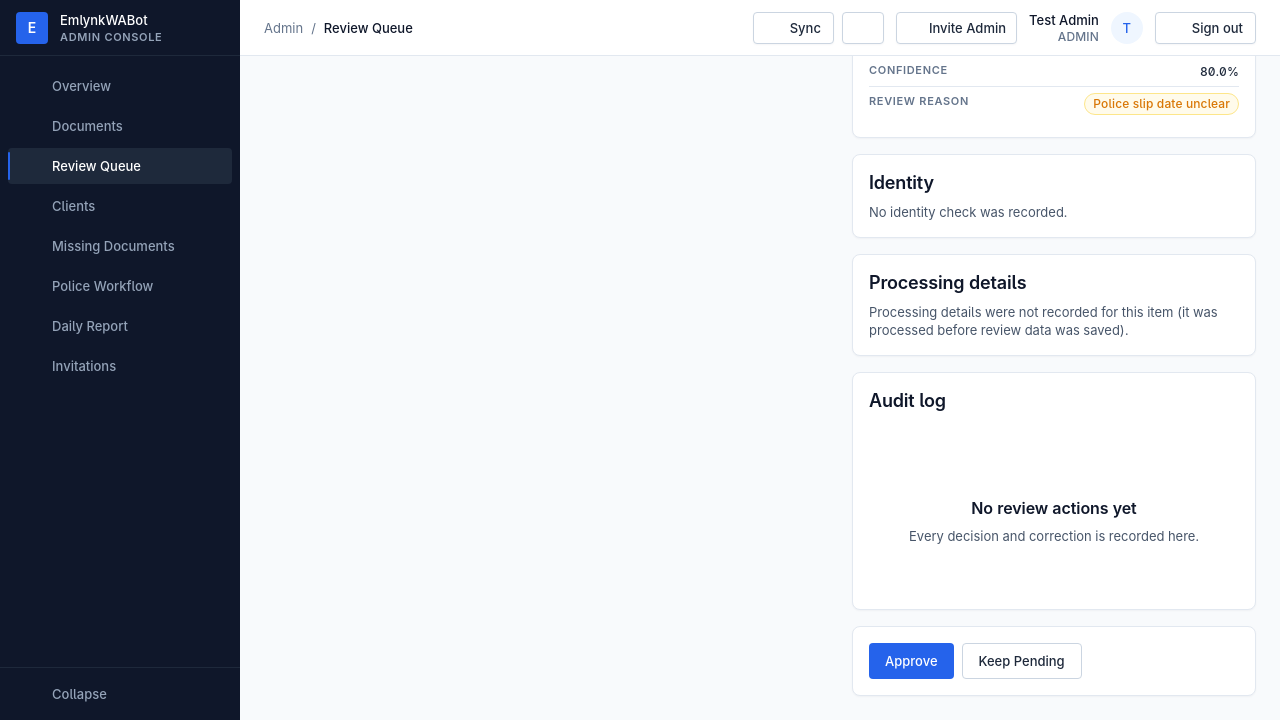
approving a police slip › a server refusal about the date is shown
(page scrolled)
Click the button "Approve".
click(911, 661)  # box [869, 643, 954, 679]
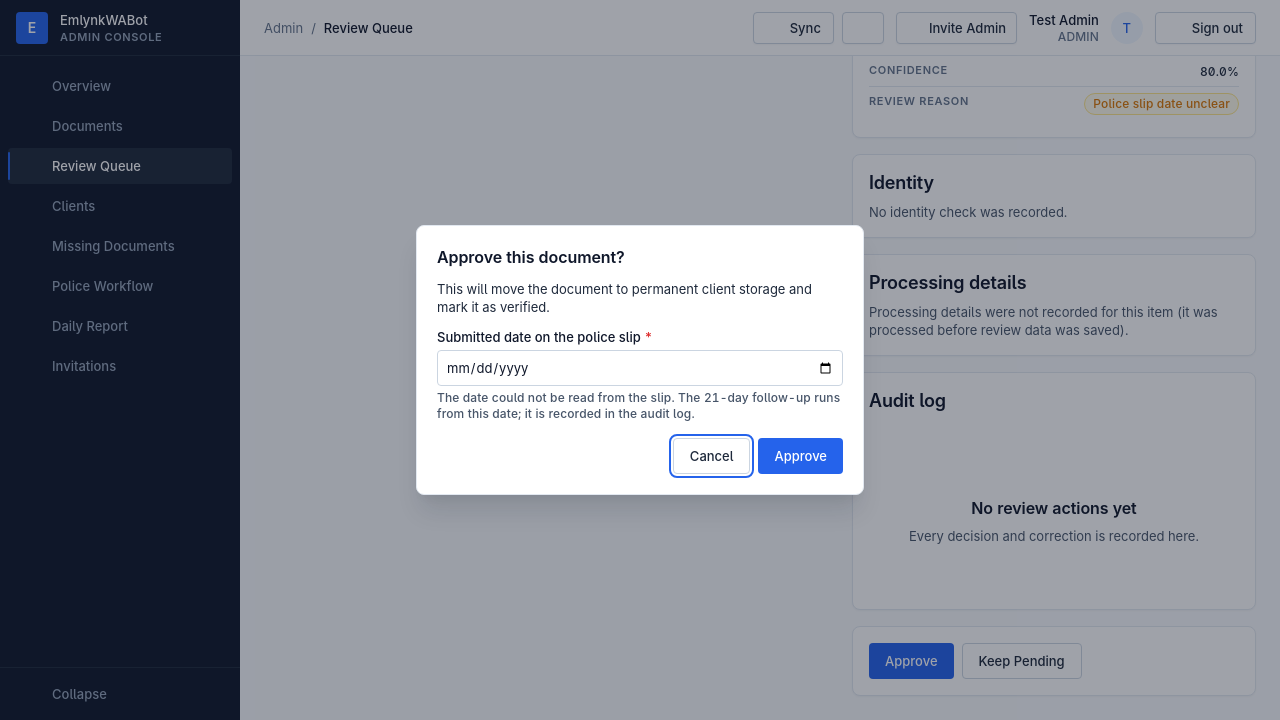
Type "2026-09-10" into the date field labelled "Submitted date on the police slip *".
click(640, 368); type("2026-09-10")  # box [437, 350, 843, 386]
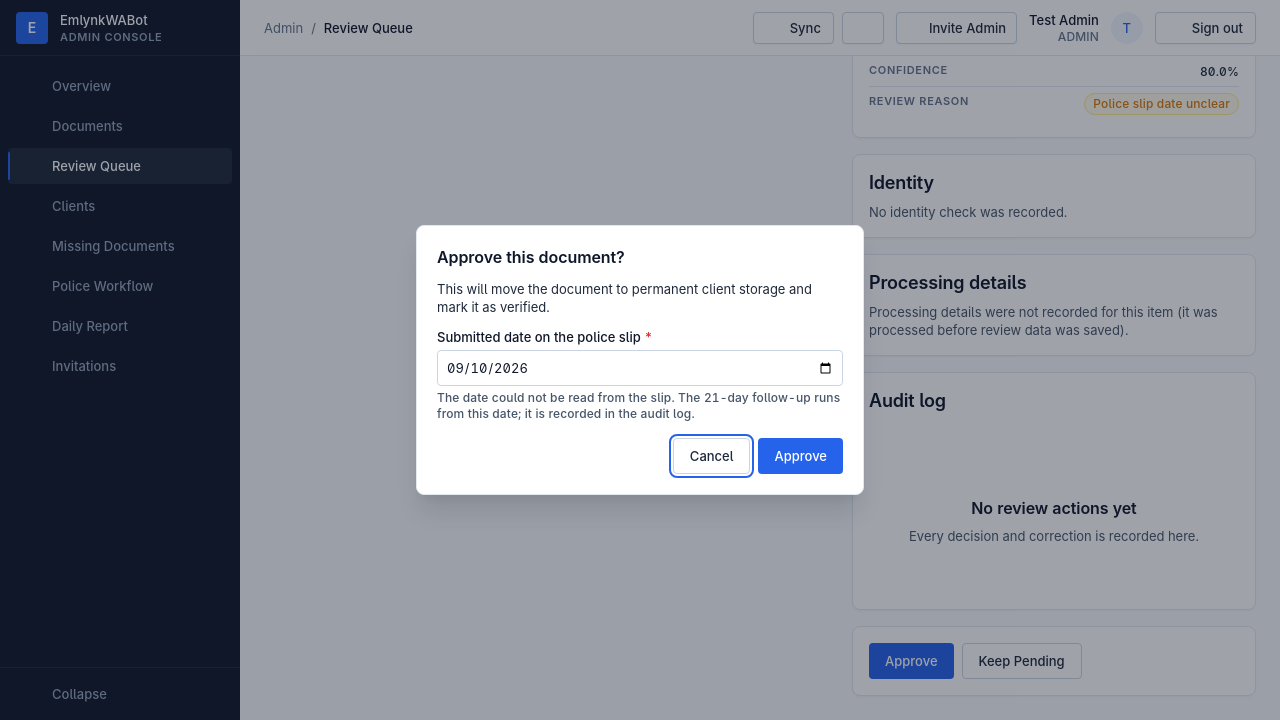
Click the button "Approve".
click(801, 456)  # box [758, 438, 843, 474]
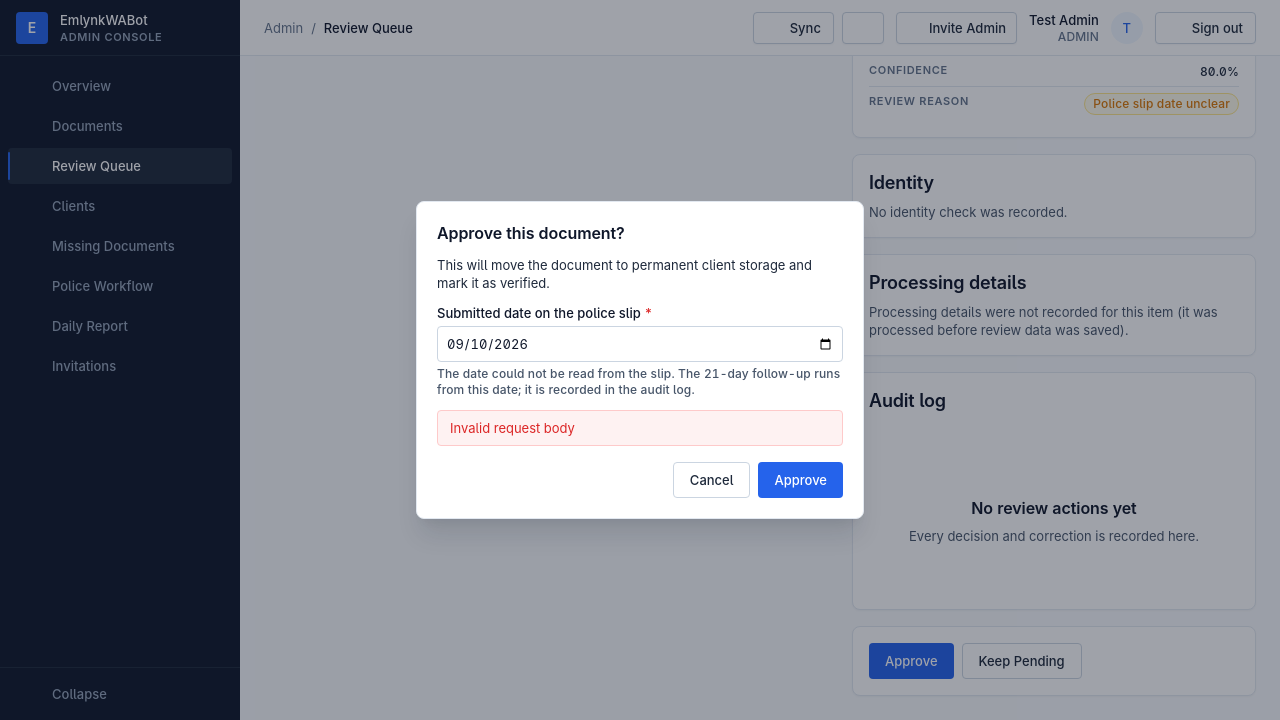
Result: the message reads "Invalid request body" at [450, 420, 575, 436]
